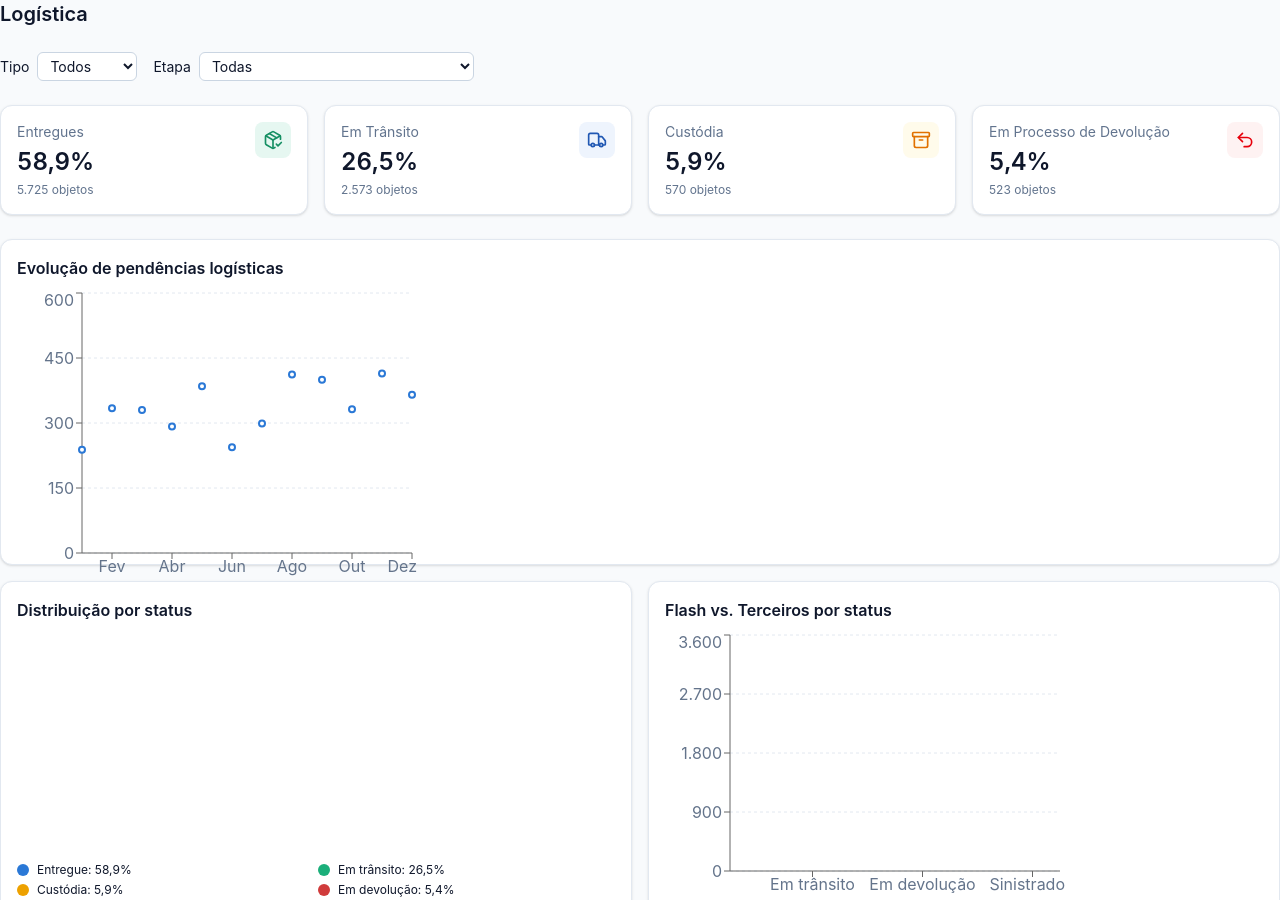
LogisticsPage › opens the details of a KPI in a dialog and closes it with Escape
Click the button "Custódia 5,9% 570 objetos" at (694, 132), box left=665, top=122, right=939, bottom=198
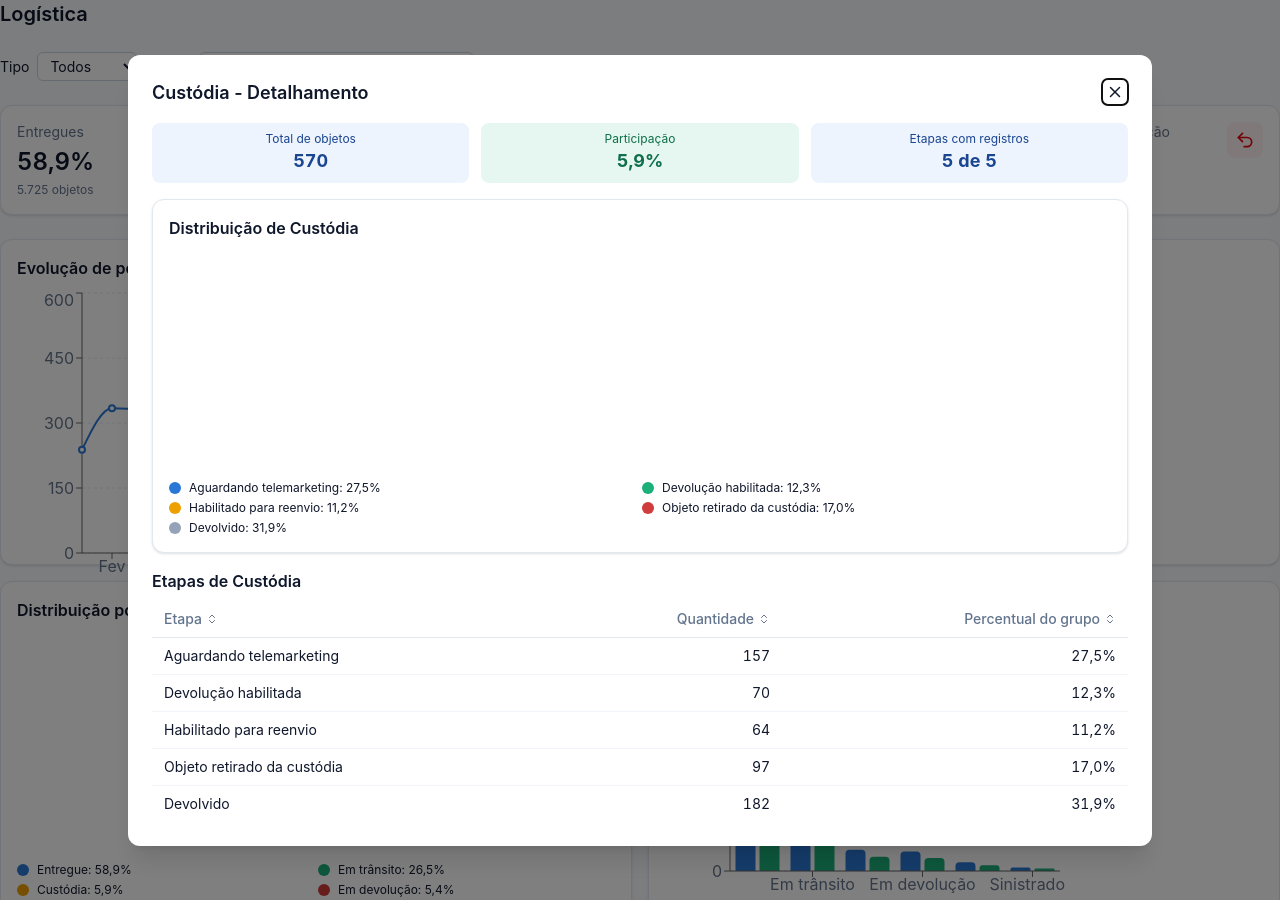
Result: the table "Etapas de Custódia" is shown at left=152, top=568, right=1128, bottom=822
Press Escape
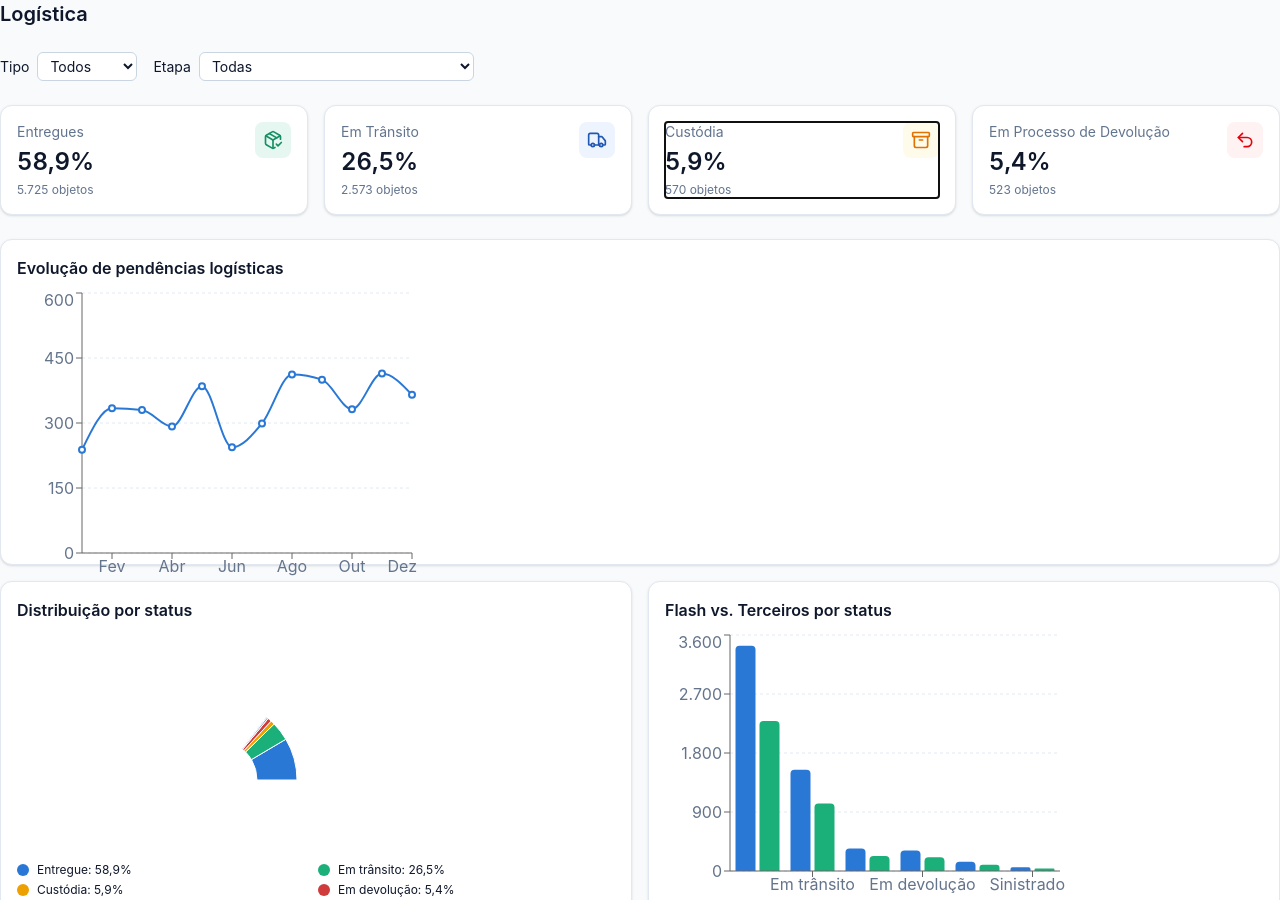
Result: the dialog is gone
